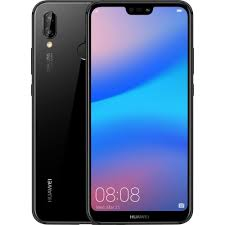huawei: (87, 4, 194, 224), (28, 1, 87, 223)
